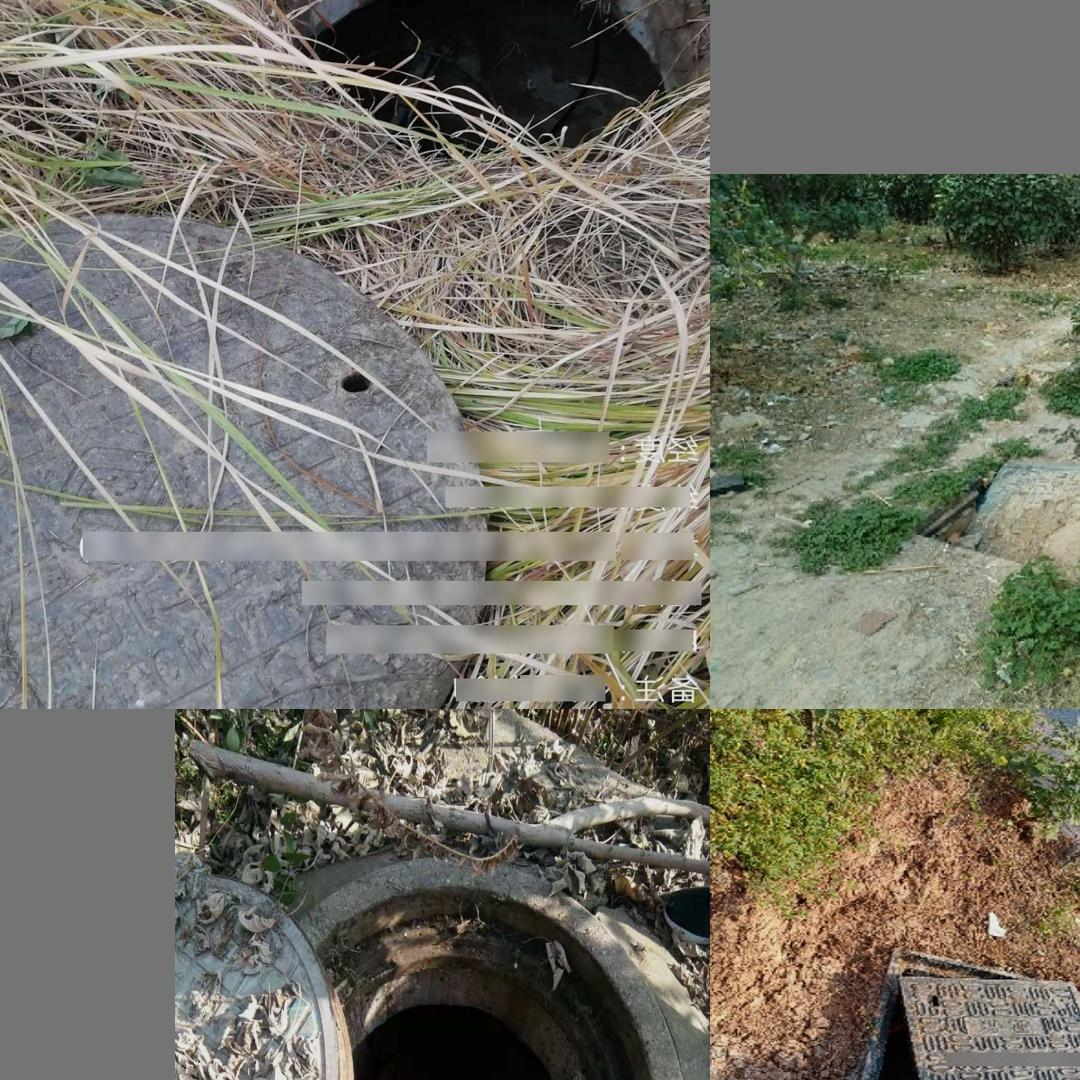uncovered: (0, 0, 690, 685), (179, 859, 688, 1080), (812, 945, 1080, 1080), (889, 440, 1080, 621)
